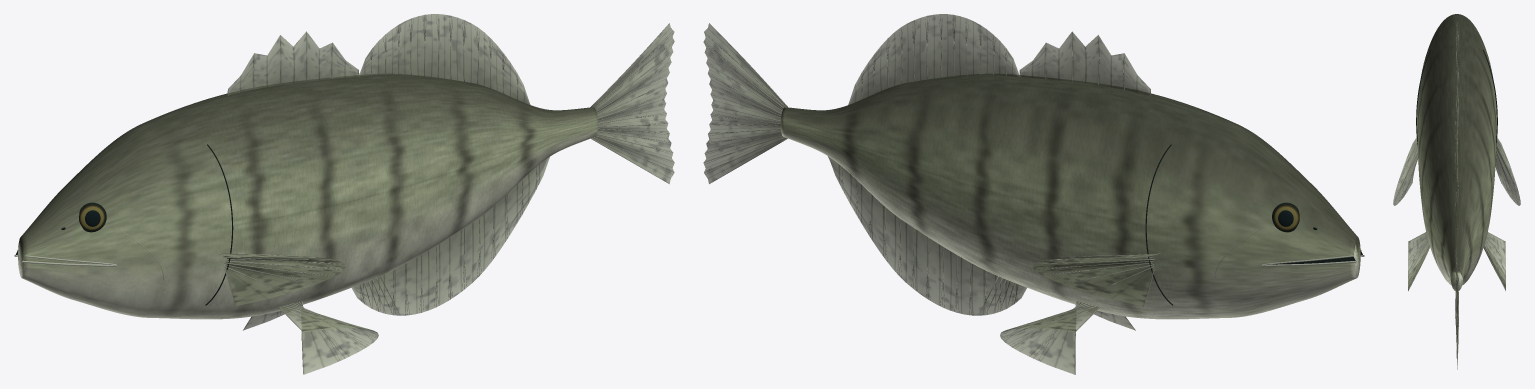
File: white-crappie.glb
The picture shows the model from 3 angles, left to right: view 1: azimuth 30°, elevation 25°; view 2: azimuth 150°, elevation 25°; view 3: azimuth 270°, elevation 25°; orthographic projection. The views are drawn at different scales.
Parts seen in each view (by area): view 1: white-crappie specimen; view 2: white-crappie specimen; view 3: white-crappie specimen.
Boxes of the visible parts, bbox=[...] form: white-crappie specimen: bbox=[14, 14, 674, 374]; white-crappie specimen: bbox=[703, 14, 1364, 374]; white-crappie specimen: bbox=[1393, 14, 1520, 369].
Size of the model in its own units: 2.26 by 1.04 by 0.4684.
10 materials, 6 textured.
